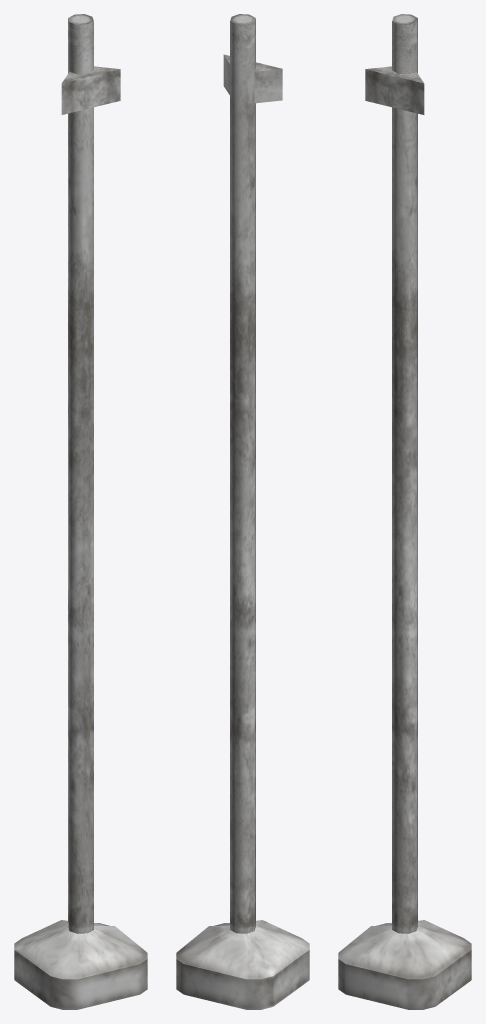
File: PrpPoleSignA1A.fbx
3 renders of one model, left to right at view 1: azimuth 30°, elevation 25°; view 2: azimuth 150°, elevation 25°; view 3: azimuth 330°, elevation 25°, orthographic.
Visible parts, largest first — view 1: PrpPoleSignA1A; view 2: PrpPoleSignA1A; view 3: PrpPoleSignA1A.
Boxes of the visible parts, x1,y1,x2,y2 form: PrpPoleSignA1A: (14,14,147,1009); PrpPoleSignA1A: (176,14,309,1009); PrpPoleSignA1A: (338,14,471,1009).
Size of the model in its own units: 21.03 by 200 by 21.03.
1 material, 1 textured.
